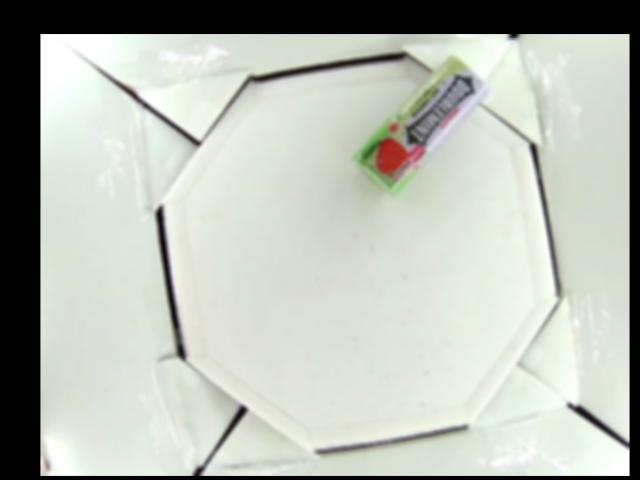Bottle: (356, 56, 490, 193)
